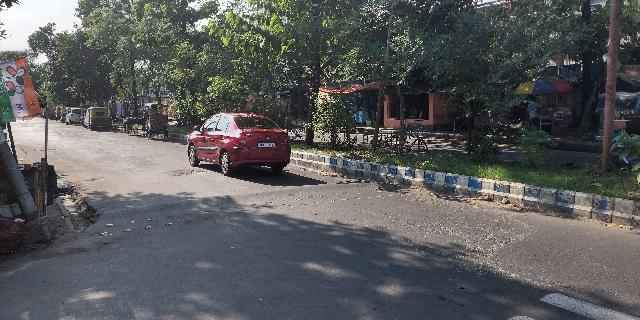Autorickshaw: (83, 103, 113, 133)
Car: (184, 110, 294, 179)
